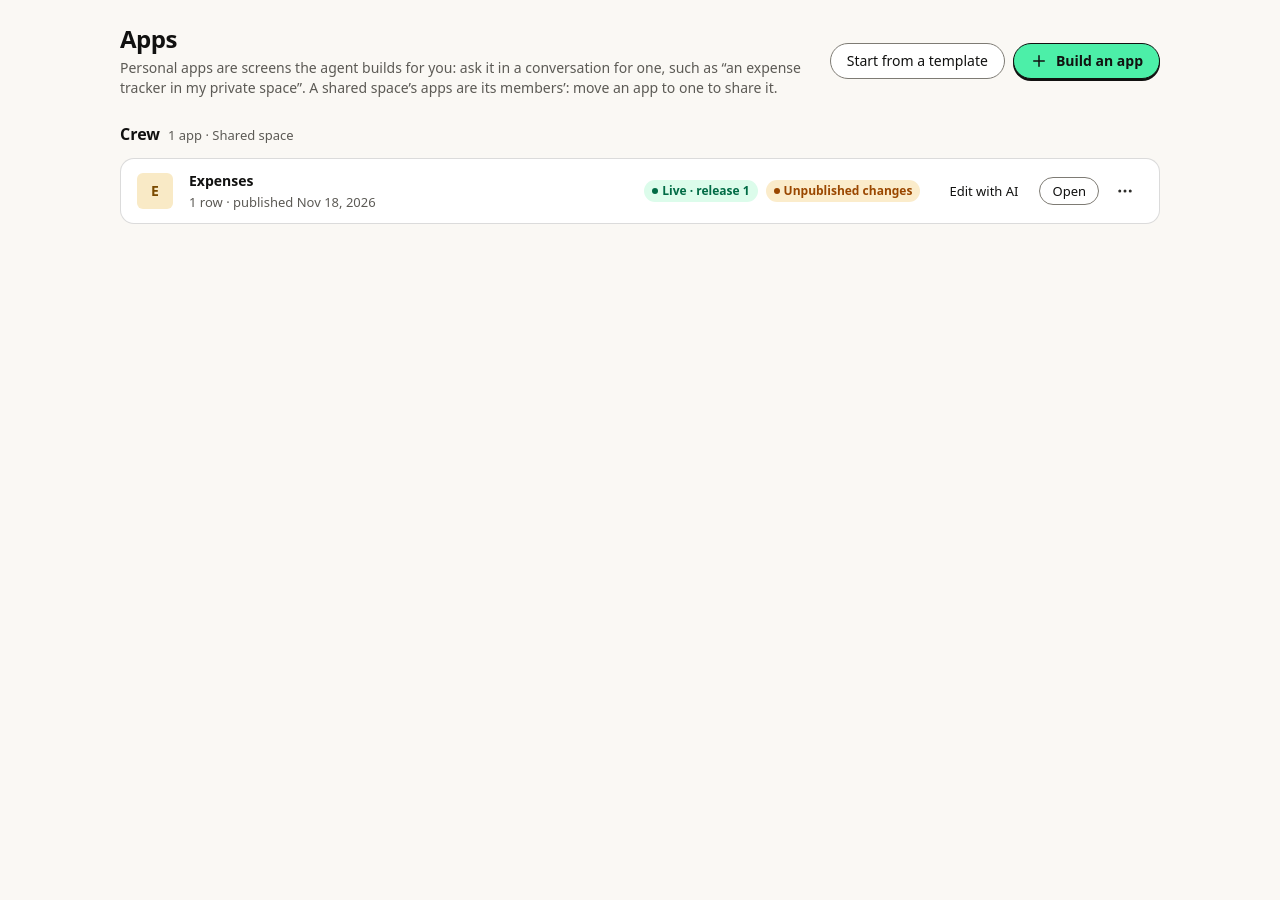
publishing shows what the draft does first, asks to acknowledge the schema changes the server names, then publishes with them
Click the button named "More actions for Expenses". click: (1125, 191)
box: [1107,173,1143,209]
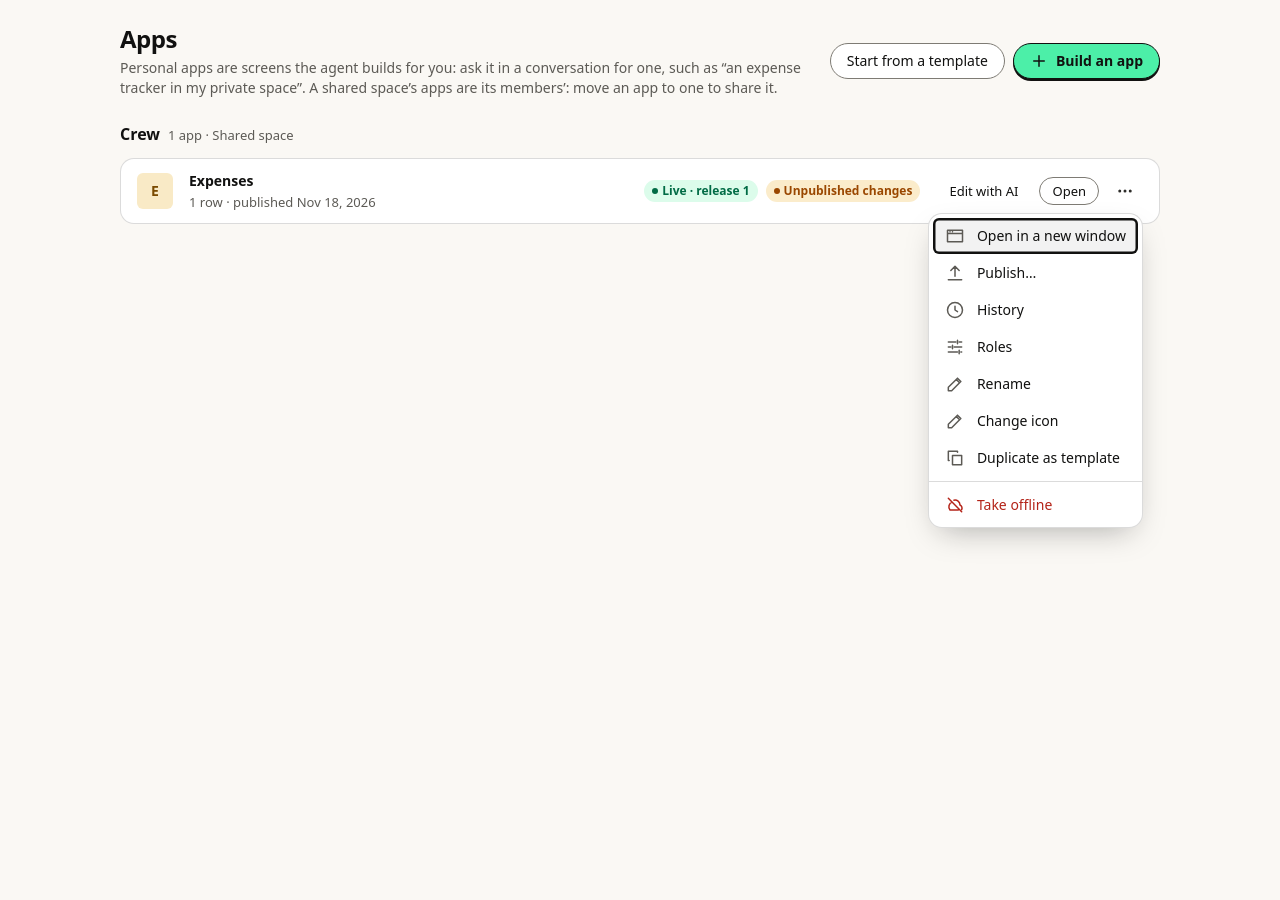
Click the menu item "Publish…". click: (1035, 273)
box: [933,255,1138,291]
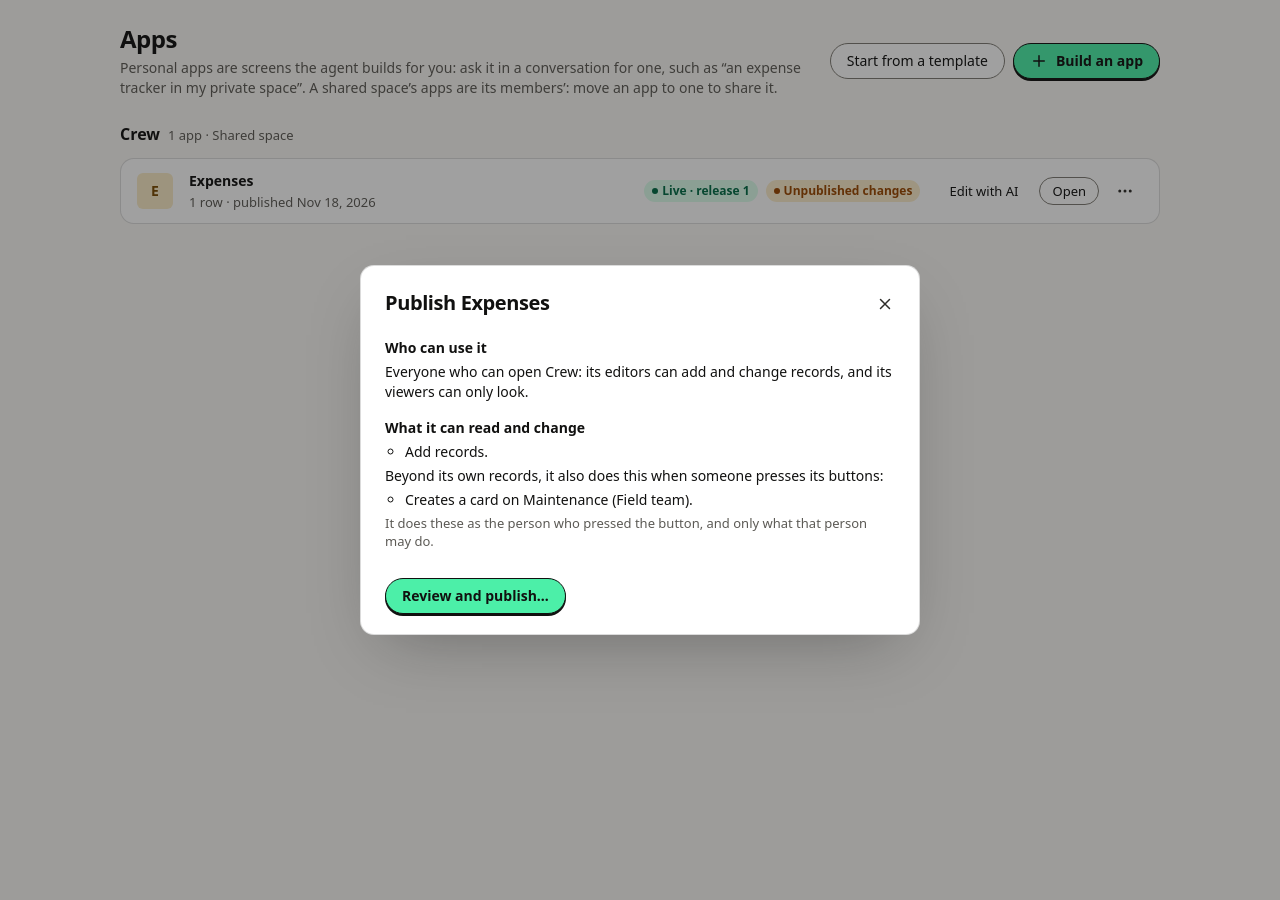
Expected: the list item "Creates a card on Maintenance (Field team)." is shown, [405,490,693,509]
Click the button "Review and publish…". click: (475, 596)
box: [385,578,566,614]
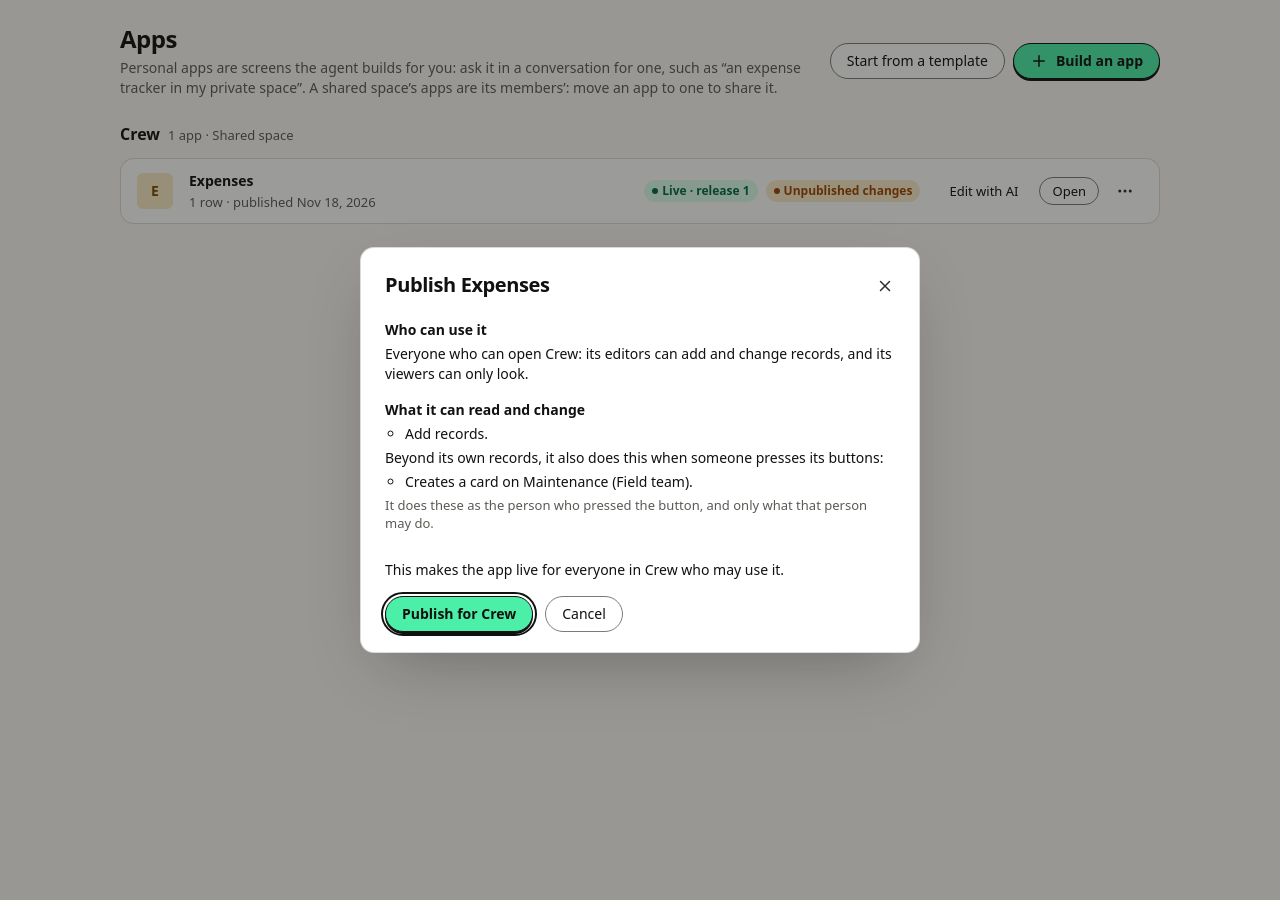
Click the button "Publish for Crew". click: (459, 614)
box: [385,596,533,632]
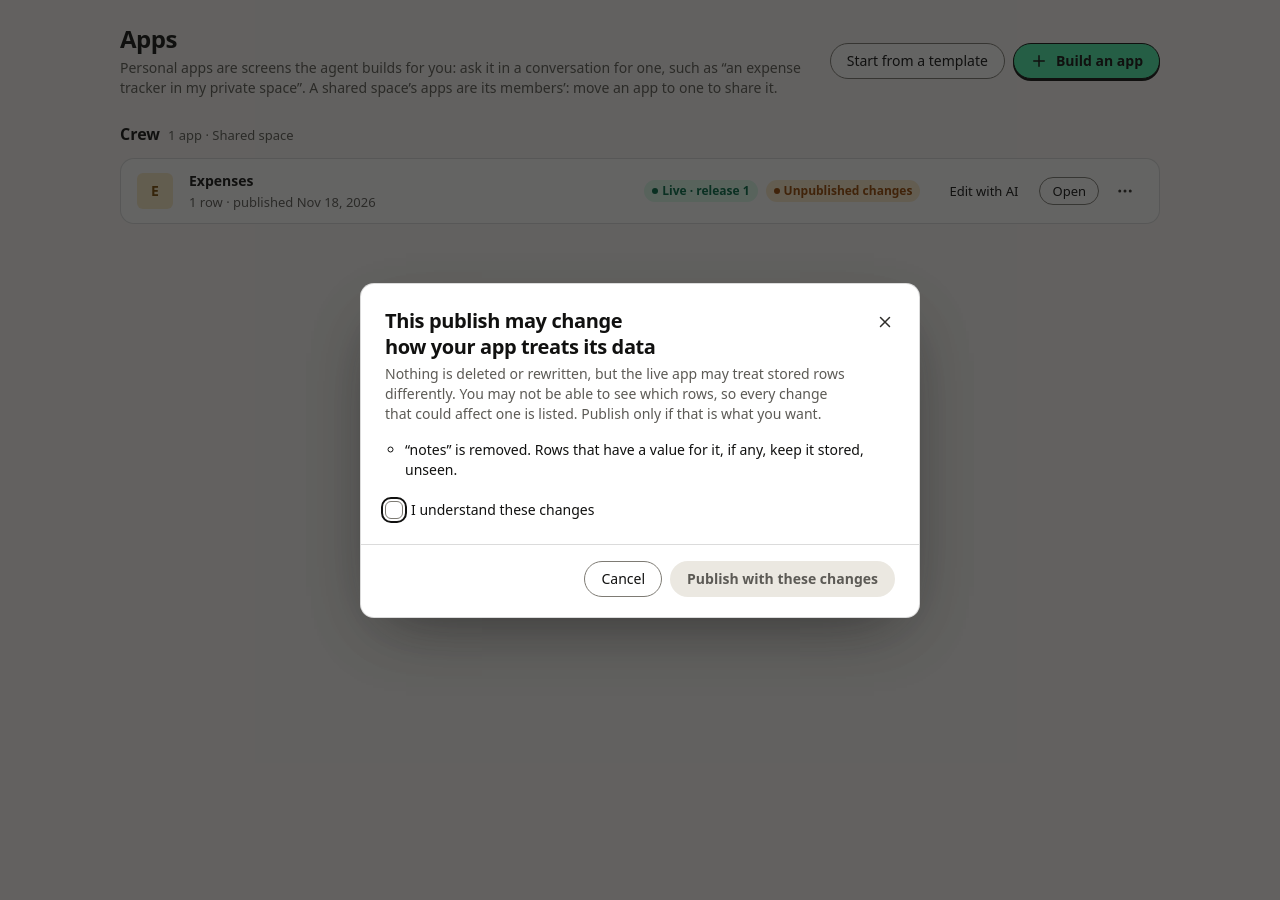
Expected: the list item "“notes” is removed" is shown, [405,440,864,478]
Expected: the button "Publish with these changes" is disabled, [670,560,895,596]
Click the checkbox labelled "I understand these changes". click: (394, 510)
box: [385,500,403,518]
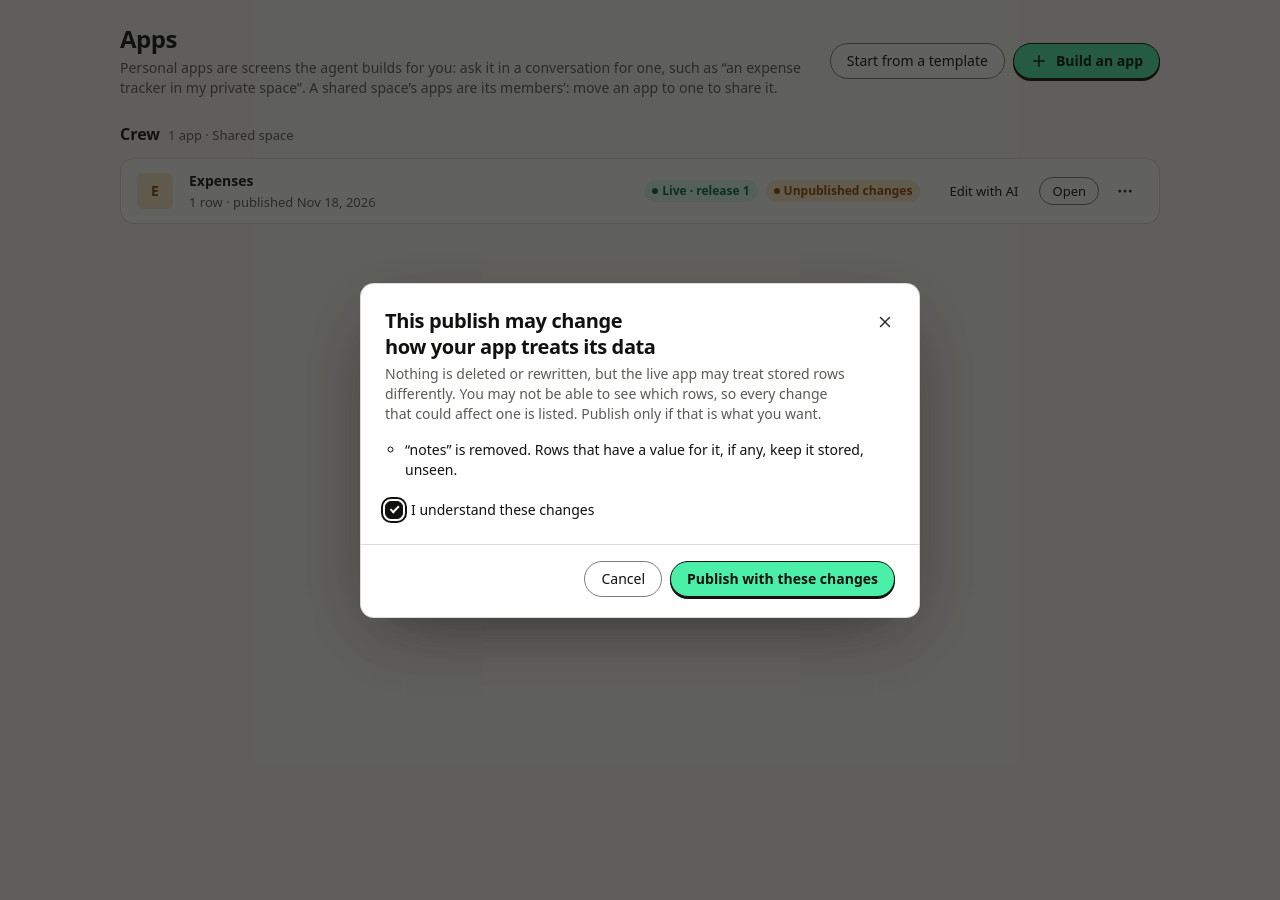
Expected: the button "Publish with these changes" is enabled
Click the button "Publish with these changes". click: (783, 578)
box: [670,560,895,596]
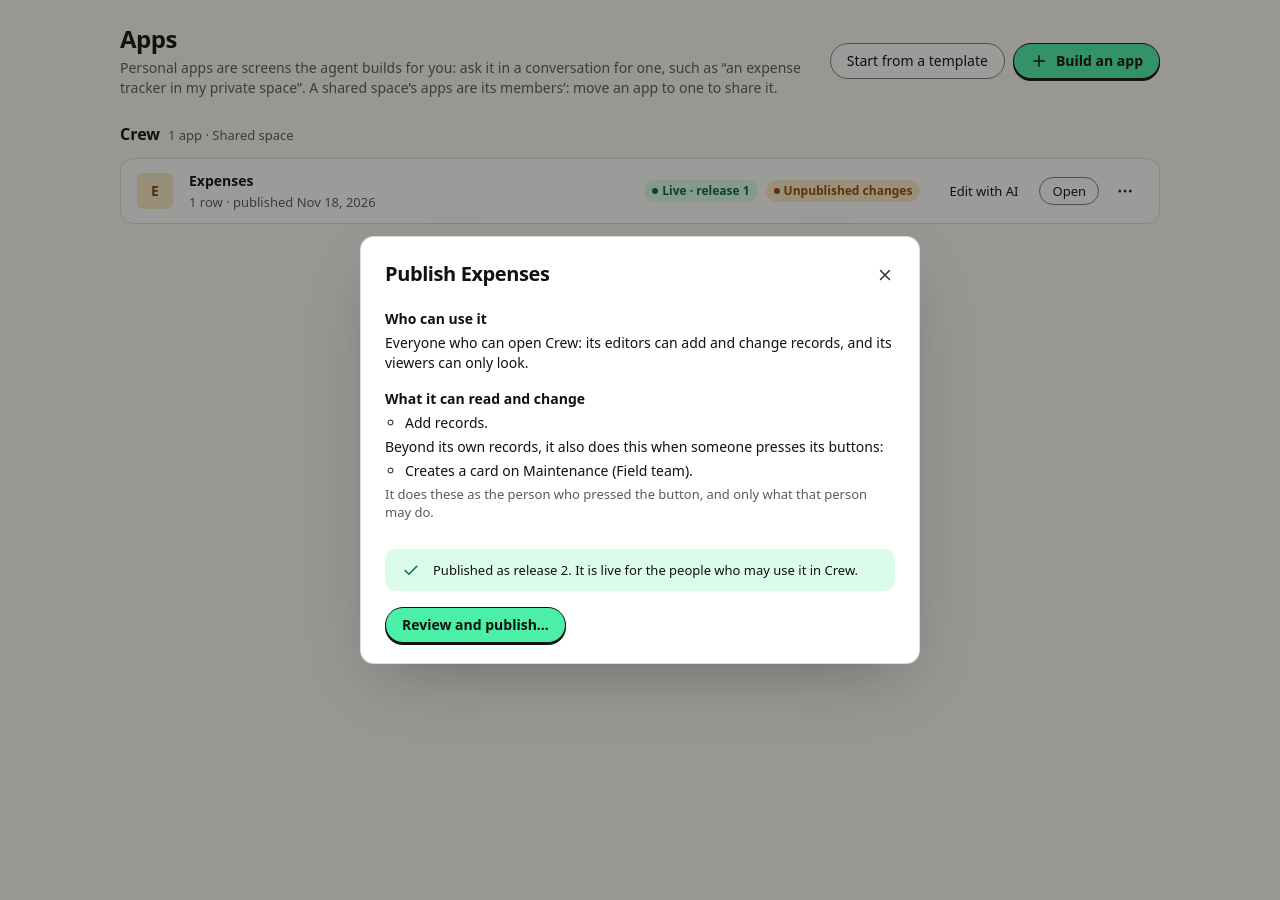
Expected: the heading "This publish may change how your app treats its data" is gone
Expected: the text "Published as release 2" is shown, [433,561,858,579]
